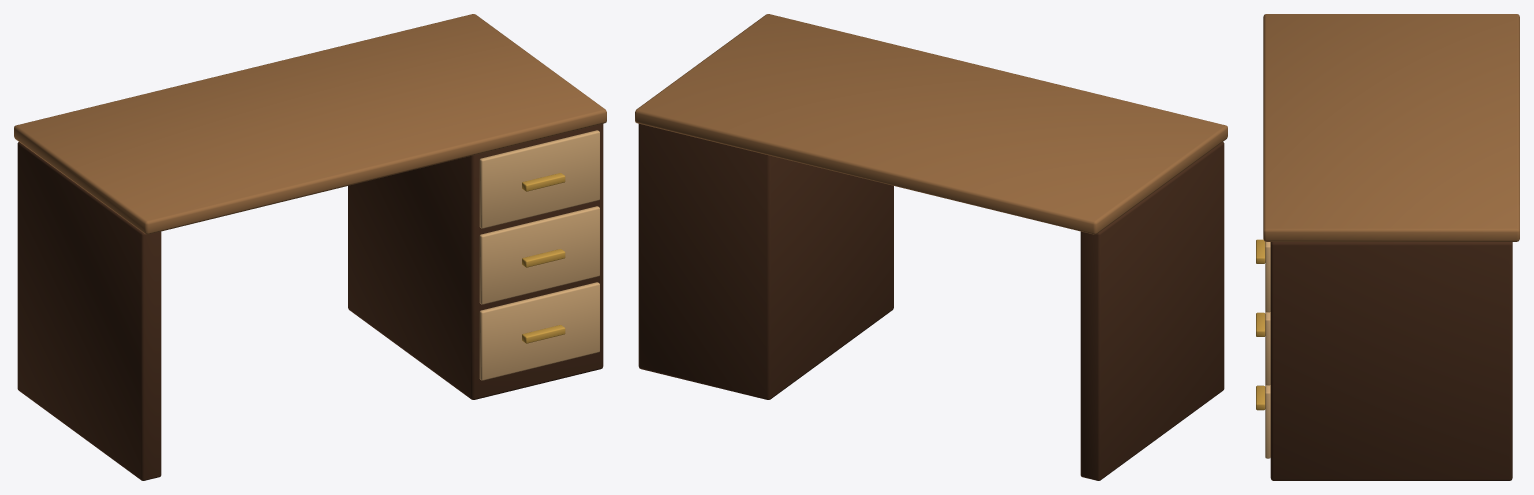
File: Desk_With_Drawers.glb
3 views of the same model, side by side, from view 1: azimuth 30°, elevation 25°; view 2: azimuth 150°, elevation 25°; view 3: azimuth 270°, elevation 25° (orthographic). The views are drawn at different scales.
Visible parts, largest first — view 1: Desk_With_Drawers; view 2: Desk_With_Drawers; view 3: Desk_With_Drawers.
Part boxes in pixels (box(x1,y1,x2,y2)): Desk_With_Drawers: box(14, 14, 606, 480); Desk_With_Drawers: box(635, 14, 1227, 480); Desk_With_Drawers: box(1256, 14, 1519, 480).
Bounding box in the file's own units: 1.4 × 0.76 × 0.72.
